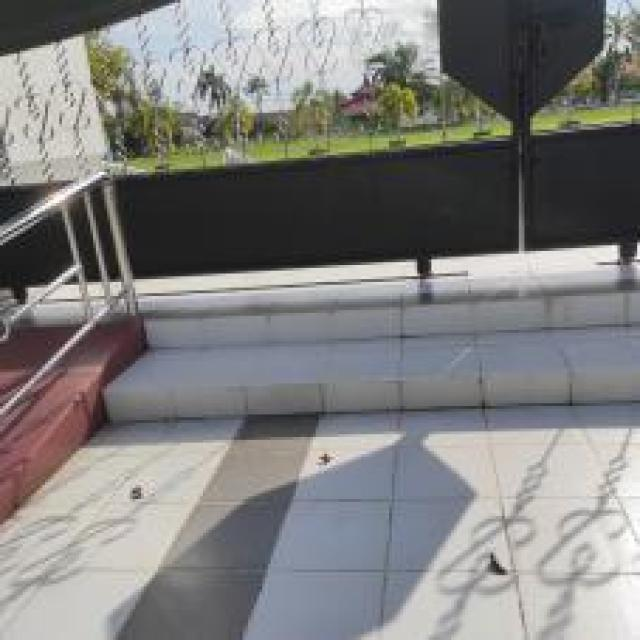upstair: (148, 286, 638, 449)
